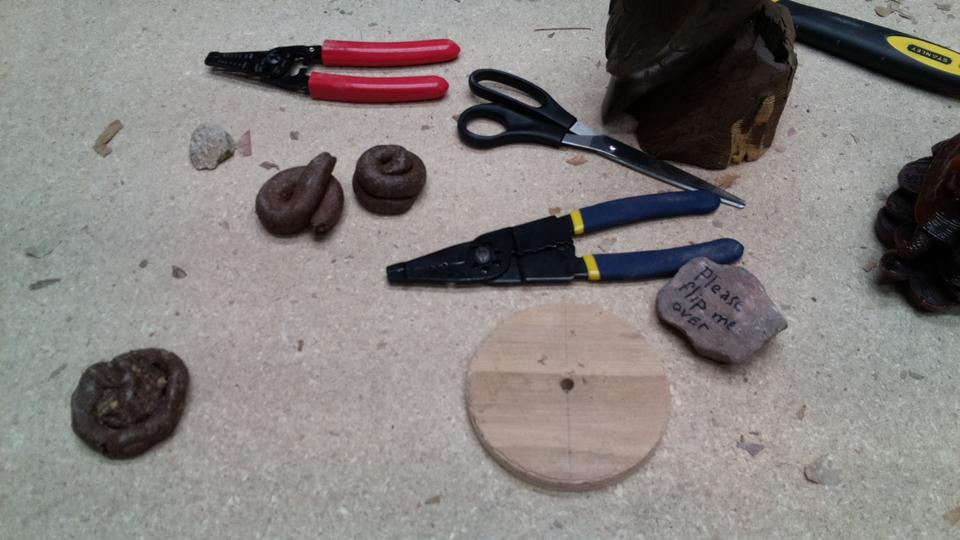poop: (64, 342, 193, 469), (250, 148, 347, 246), (349, 141, 431, 219)
